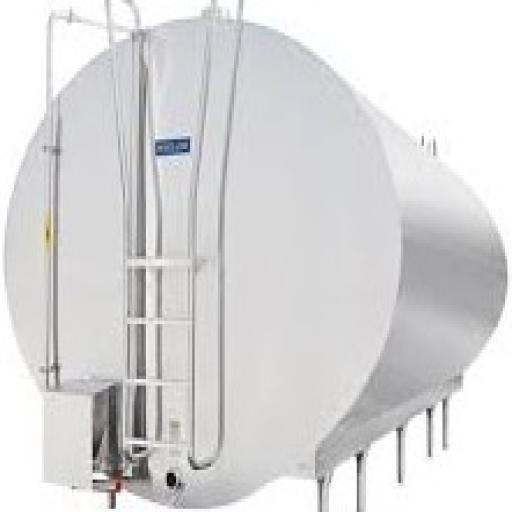silo: (2, 18, 509, 509)
